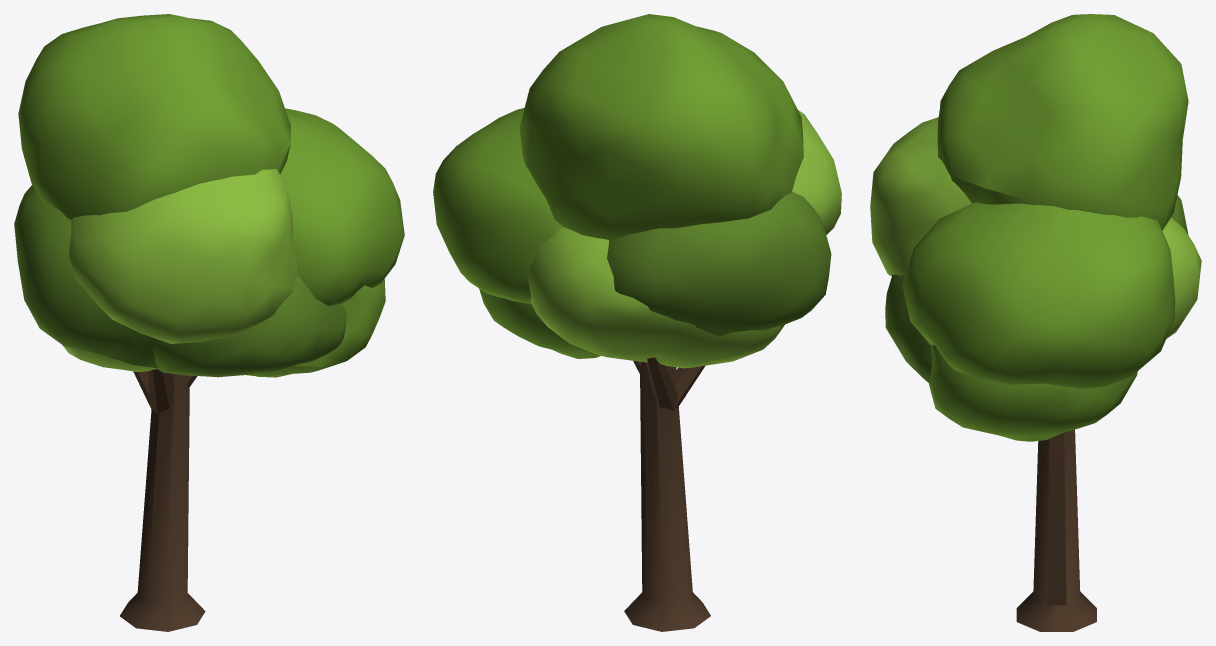
File: tree_b.glb
3 views of the same model, side by side, from view 1: azimuth 30°, elevation 25°; view 2: azimuth 150°, elevation 25°; view 3: azimuth 270°, elevation 25° (orthographic).
Visible parts, largest first — view 1: leaves.006, leaves.001, leaves.003, trunk, leaves.002, leaves.005, leaves, branch.002, leaves.004; view 2: leaves.006, leaves.002, leaves.003, leaves.004, trunk, leaves.001, leaves, branch.001, branch.002; view 3: leaves.003, leaves.006, leaves, trunk, leaves.001, leaves.004, leaves.005.
Part boxes in pixels (x1,y1,x2,y2): leaves.006: (18, 14, 290, 219); leaves.001: (69, 169, 297, 343); leaves.003: (280, 108, 404, 306); trunk: (120, 373, 205, 631); leaves.002: (14, 185, 158, 368); leaves.005: (153, 274, 346, 377); leaves: (246, 279, 385, 377); branch.002: (148, 369, 172, 413); leaves.004: (62, 345, 157, 371); leaves.006: (519, 14, 803, 239); leaves.002: (607, 192, 831, 335); leaves.003: (433, 108, 562, 304); leaves.004: (527, 227, 784, 368); trunk: (624, 362, 710, 631); leaves.001: (792, 110, 841, 234); leaves: (479, 288, 600, 358); branch.001: (646, 357, 678, 410); branch.002: (673, 365, 705, 407); leaves.003: (902, 202, 1175, 388); leaves.006: (937, 14, 1188, 230); leaves: (929, 344, 1137, 441); trunk: (1016, 429, 1096, 631); leaves.001: (870, 117, 971, 276); leaves.004: (1162, 218, 1201, 338); leaves.005: (885, 274, 932, 383).
Bounding box in the file's own units: 1.14 × 1.8 × 0.9175.
